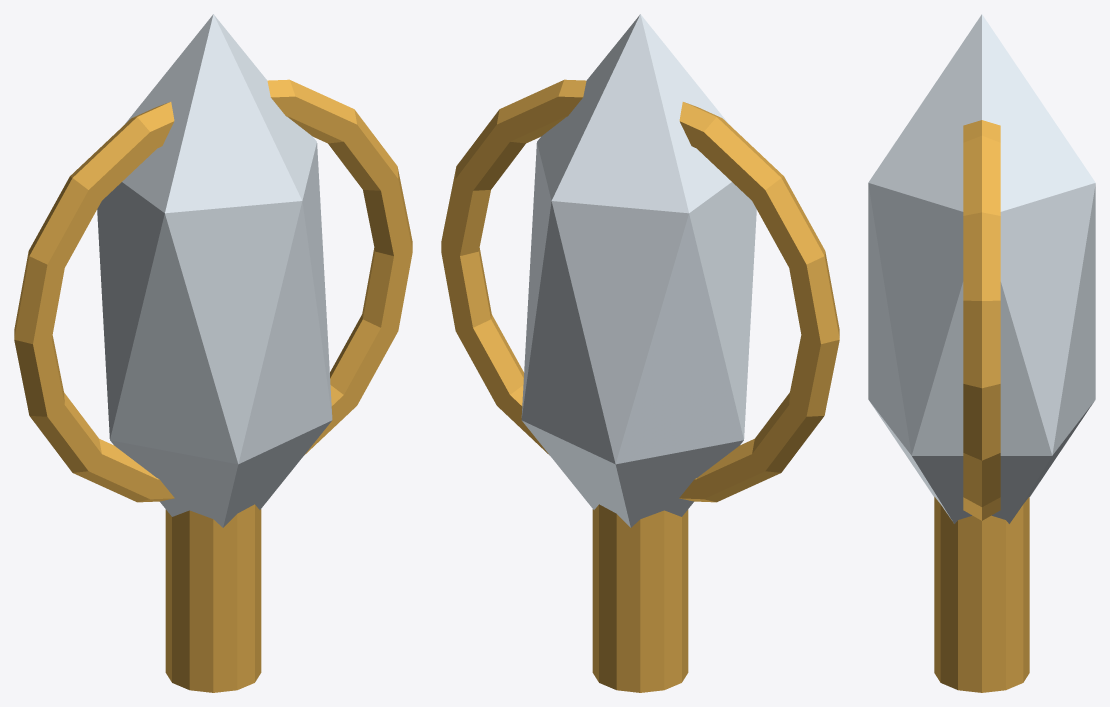
The model's file is dawn-prism-1.glb.
The picture shows the model from 3 angles, left to right: view 1: azimuth 30°, elevation 25°; view 2: azimuth 150°, elevation 25°; view 3: azimuth 270°, elevation 25°; orthographic projection.
Visible parts, largest first — view 1: Icosphere, Torus.004, Cylinder; view 2: Icosphere, Torus.004, Cylinder; view 3: Icosphere, Cylinder, Torus.004.
Boxes of the visible parts, box(x1,y1,x2,y2) form: Icosphere: box(97, 14, 332, 527); Torus.004: box(14, 79, 412, 502); Cylinder: box(165, 504, 261, 692); Icosphere: box(521, 14, 756, 527); Torus.004: box(441, 79, 839, 502); Cylinder: box(592, 504, 688, 692); Icosphere: box(868, 14, 1095, 523); Cylinder: box(934, 497, 1029, 692); Torus.004: box(963, 120, 1000, 520).
Size of the model in its own units: 0.53 by 0.837 by 0.262.
